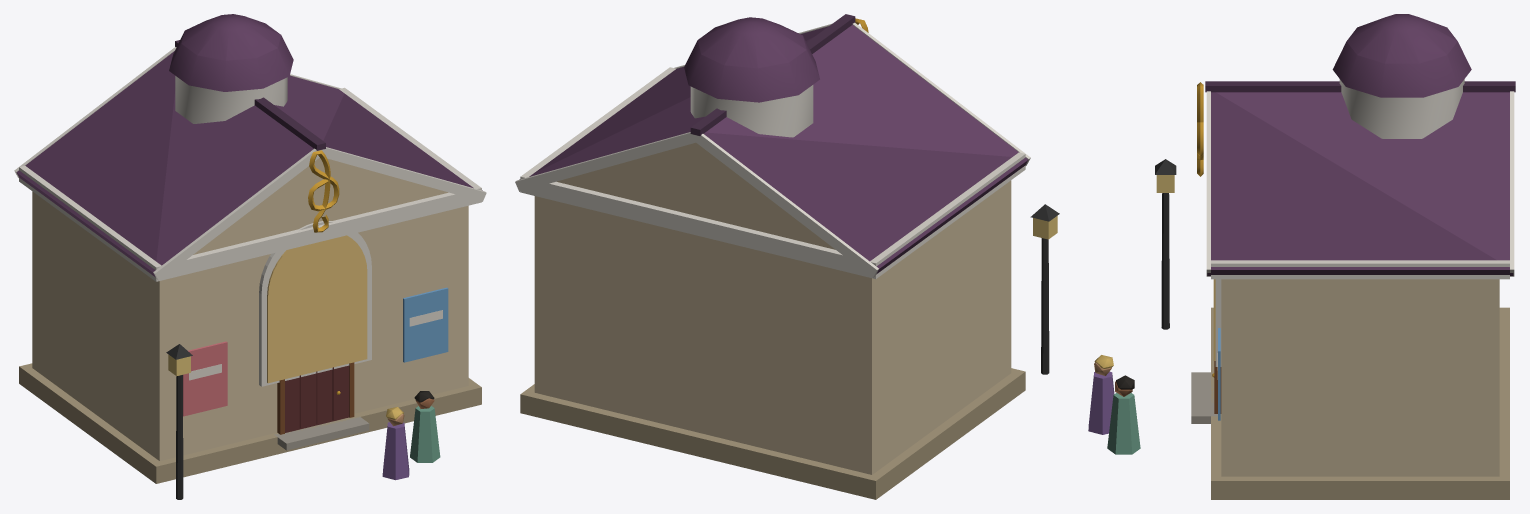
Rendered from music_hall.glb.
The picture shows the model from 3 angles, left to right: view 1: azimuth 30°, elevation 25°; view 2: azimuth 150°, elevation 25°; view 3: azimuth 270°, elevation 25°; orthographic projection. The views are drawn at different scales.
Parts seen in each view (by area): view 1: town-music_hall; view 2: town-music_hall; view 3: town-music_hall.
Boxes of the visible parts, <box> form: town-music_hall: <box>14,14,486,499</box>; town-music_hall: <box>515,14,1059,499</box>; town-music_hall: <box>1088,14,1515,499</box>.
Bounding box in the file's own units: 6.06 × 6.25 × 6.14.
